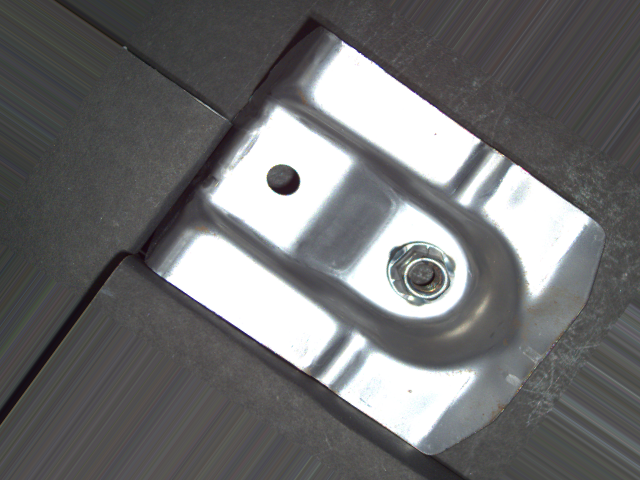good: (383, 239, 461, 310)
